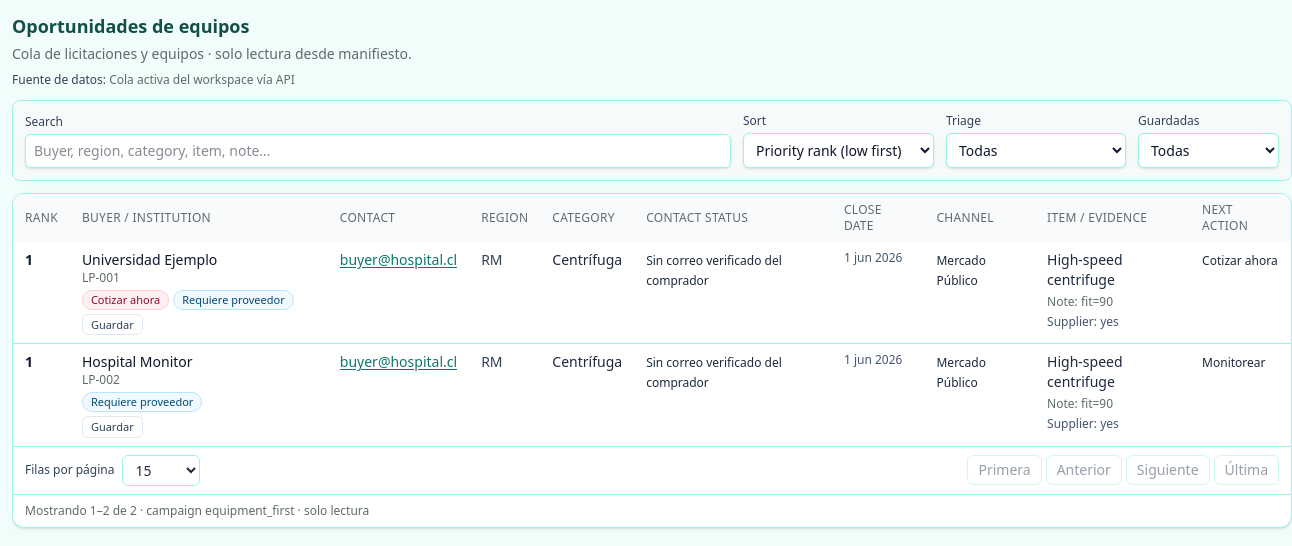
Test case: EquipmentOpportunitiesTable › filters saved items with Solo guardadas
Step 1. Click the button with aria-label "Guardar oportunidad: Universidad Ejemplo" → (112, 325), box 82,314 -> 143,336
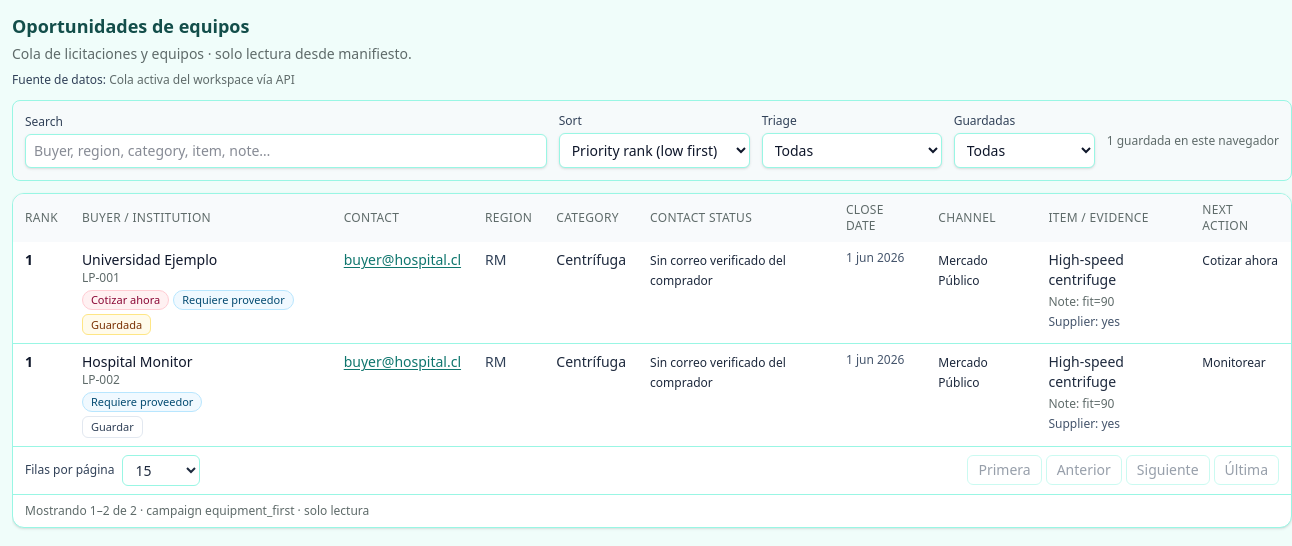
Step 2. Select "Solo guardadas" in the dropdown named "Filter equipment opportunities by watchlist" → (1024, 150), box 954,133 -> 1095,168
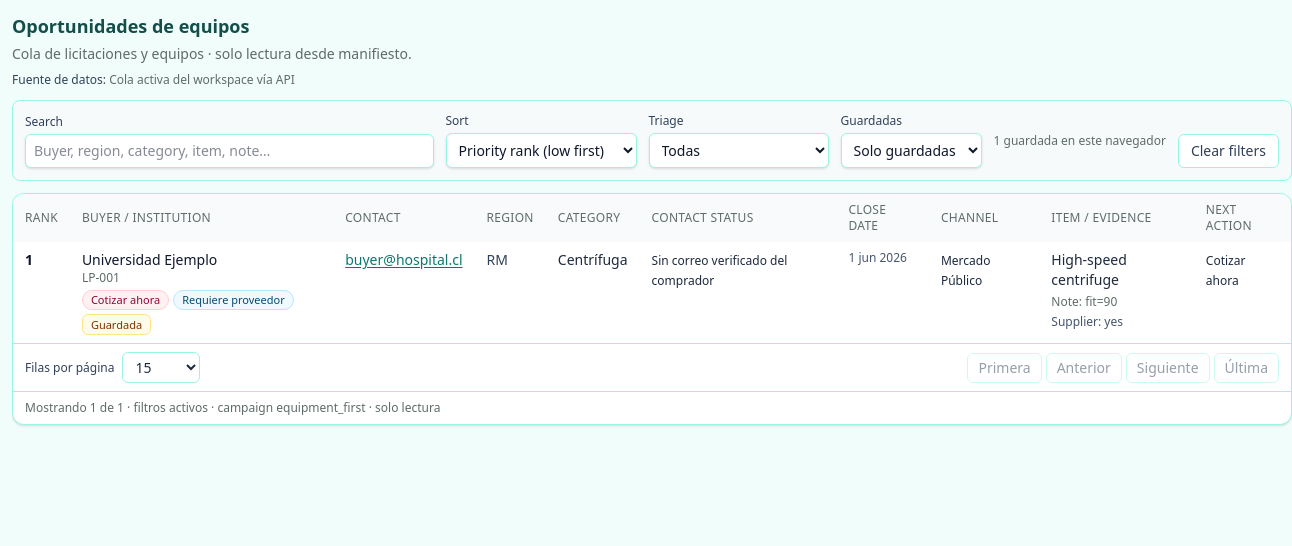
Expected: the text "Universidad Ejemplo" is shown, 82,250 -> 217,269
Expected: the button "Hospital Monitor" is gone
